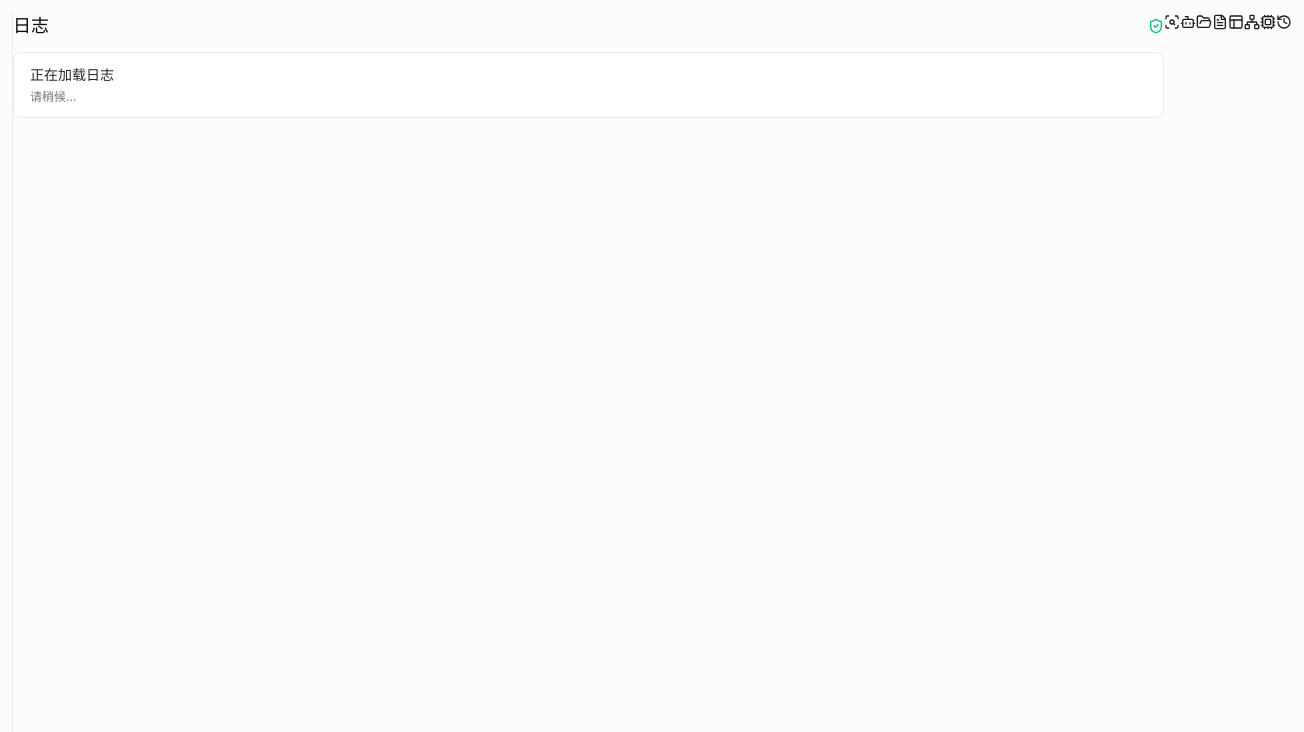
Test: ToolPanel core › shows the log export action on the logs title row
Expected: the header "日志" is shown, top-left (13, 12), bottom-right (1164, 40)
Hover over the button named "导出日志": (1156, 26) top-left (1148, 18), bottom-right (1164, 34)
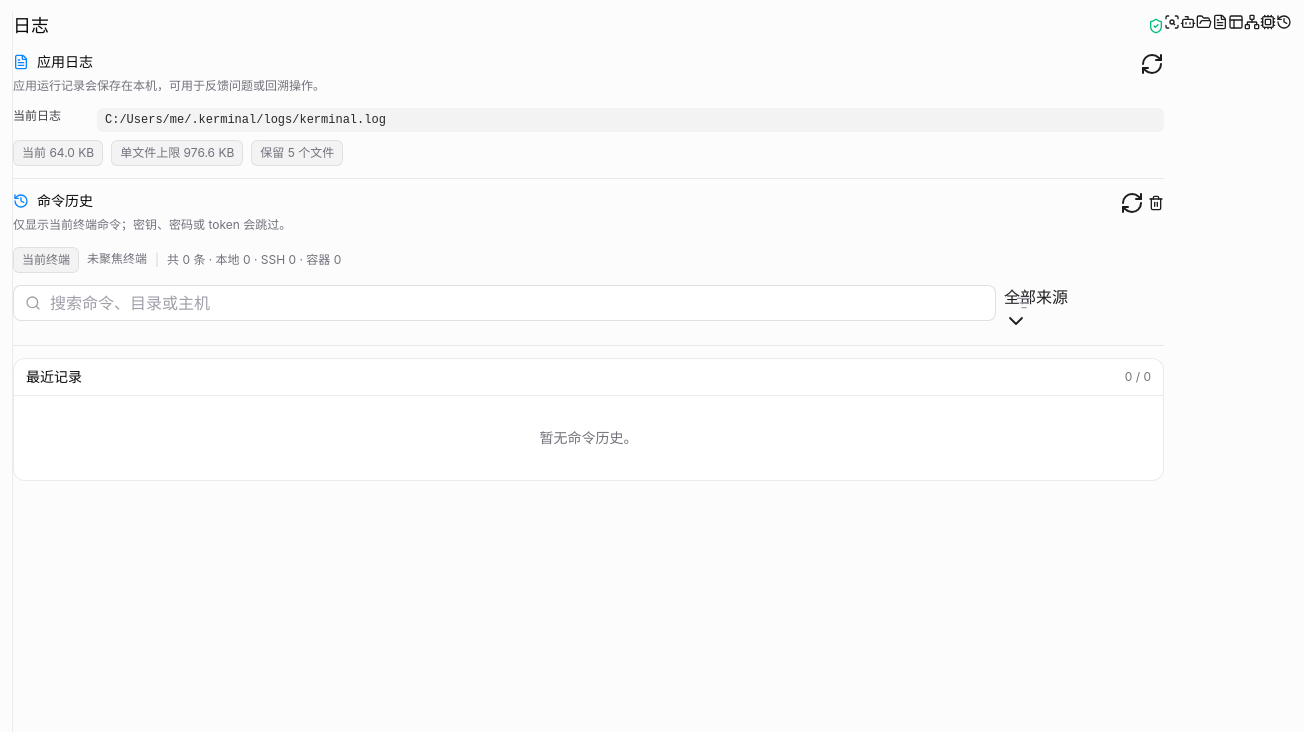
Click the button named "导出日志": (1156, 26) top-left (1148, 18), bottom-right (1164, 34)
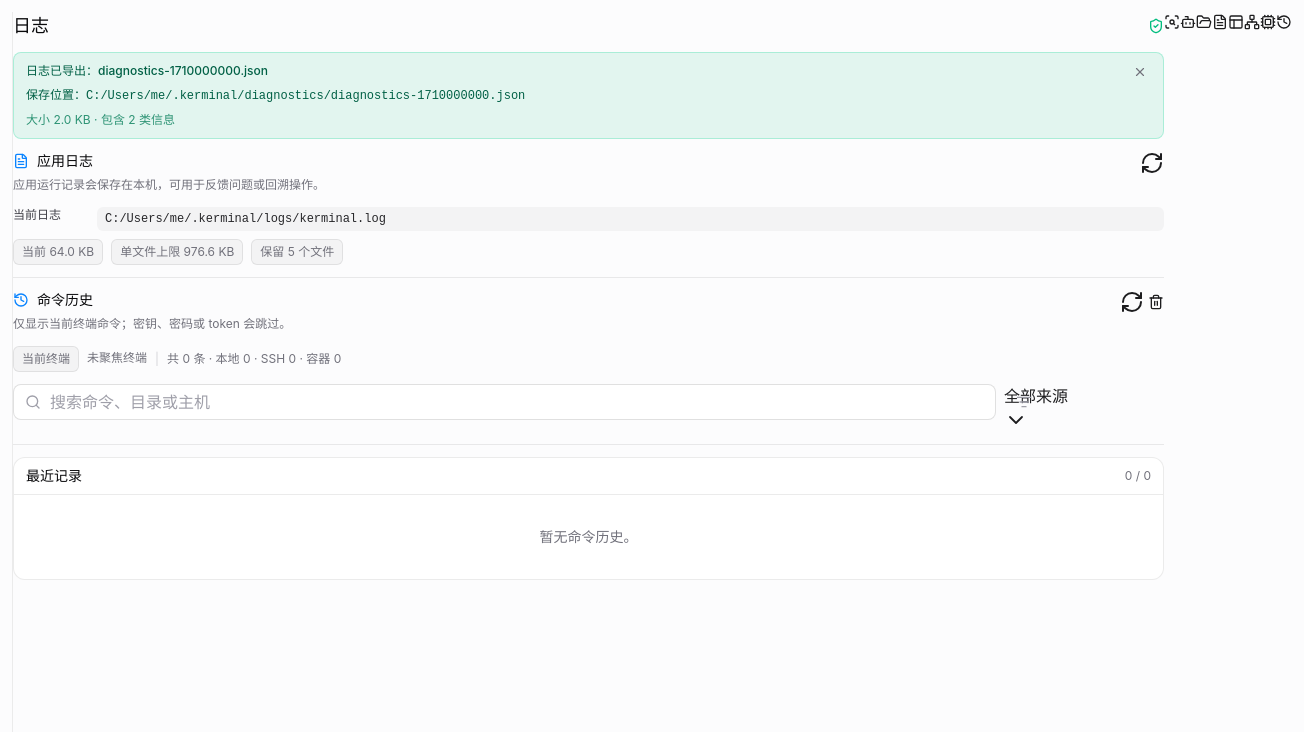
Expected: the message named "日志导出结果" is shown, top-left (13, 52), bottom-right (1164, 139)
Expected: the text "C:/Users/me/.kerminal/diagnostics/diagnostics-1710000000.json" is shown, top-left (86, 89), bottom-right (525, 103)
